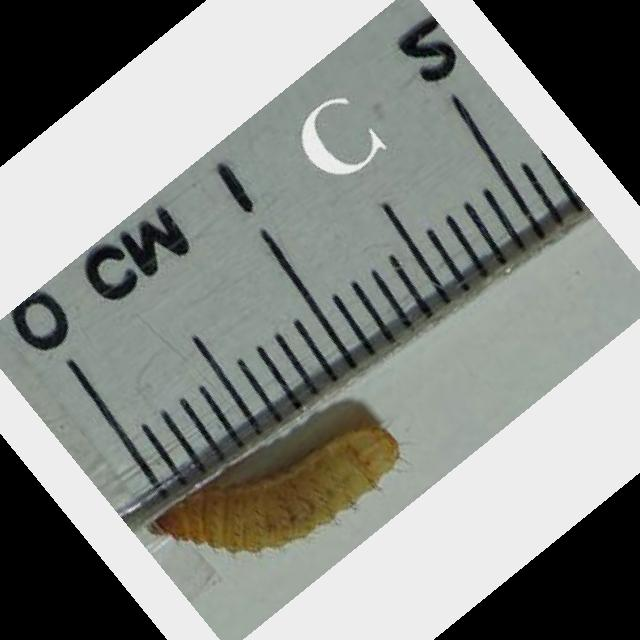Maggot: (147, 423, 401, 553)
